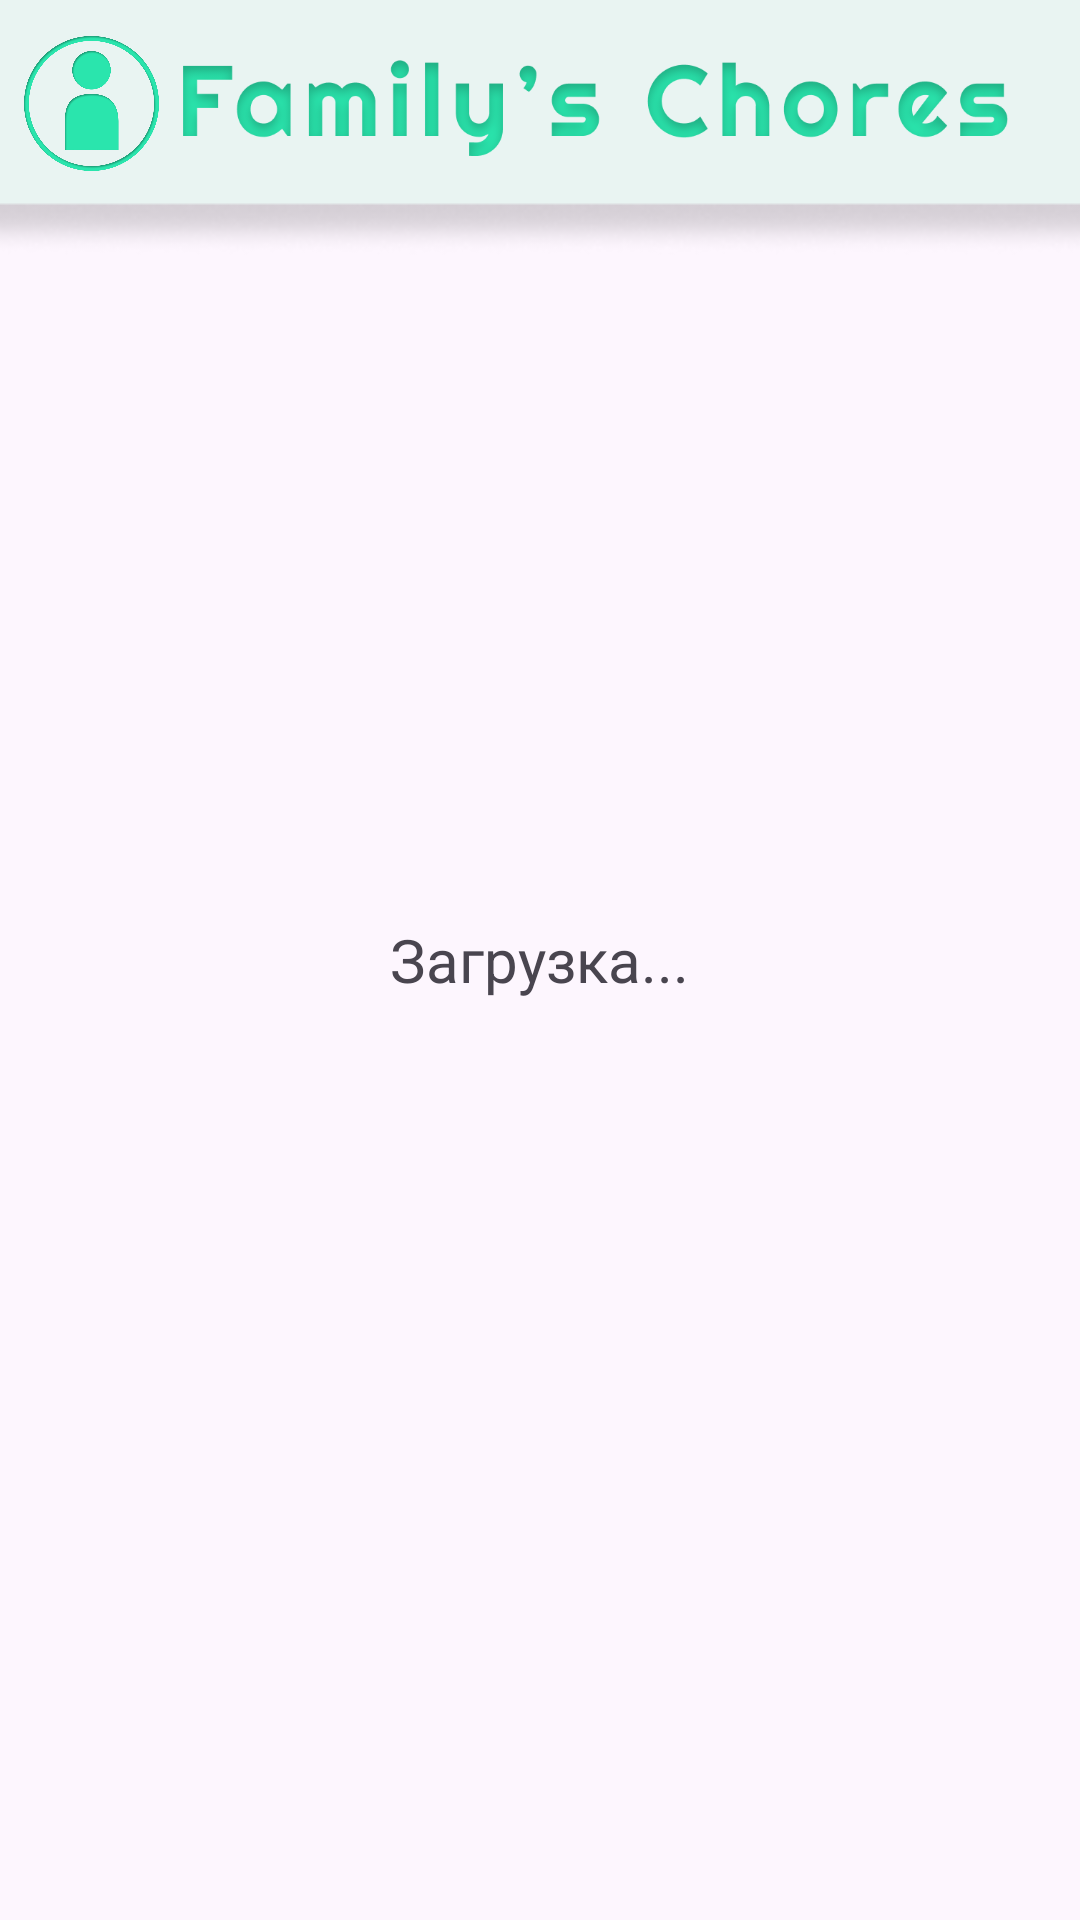

Screen size 1080 × 1920. Icon name, then its center in pixels as [x,y]:
auth: [91,103]
